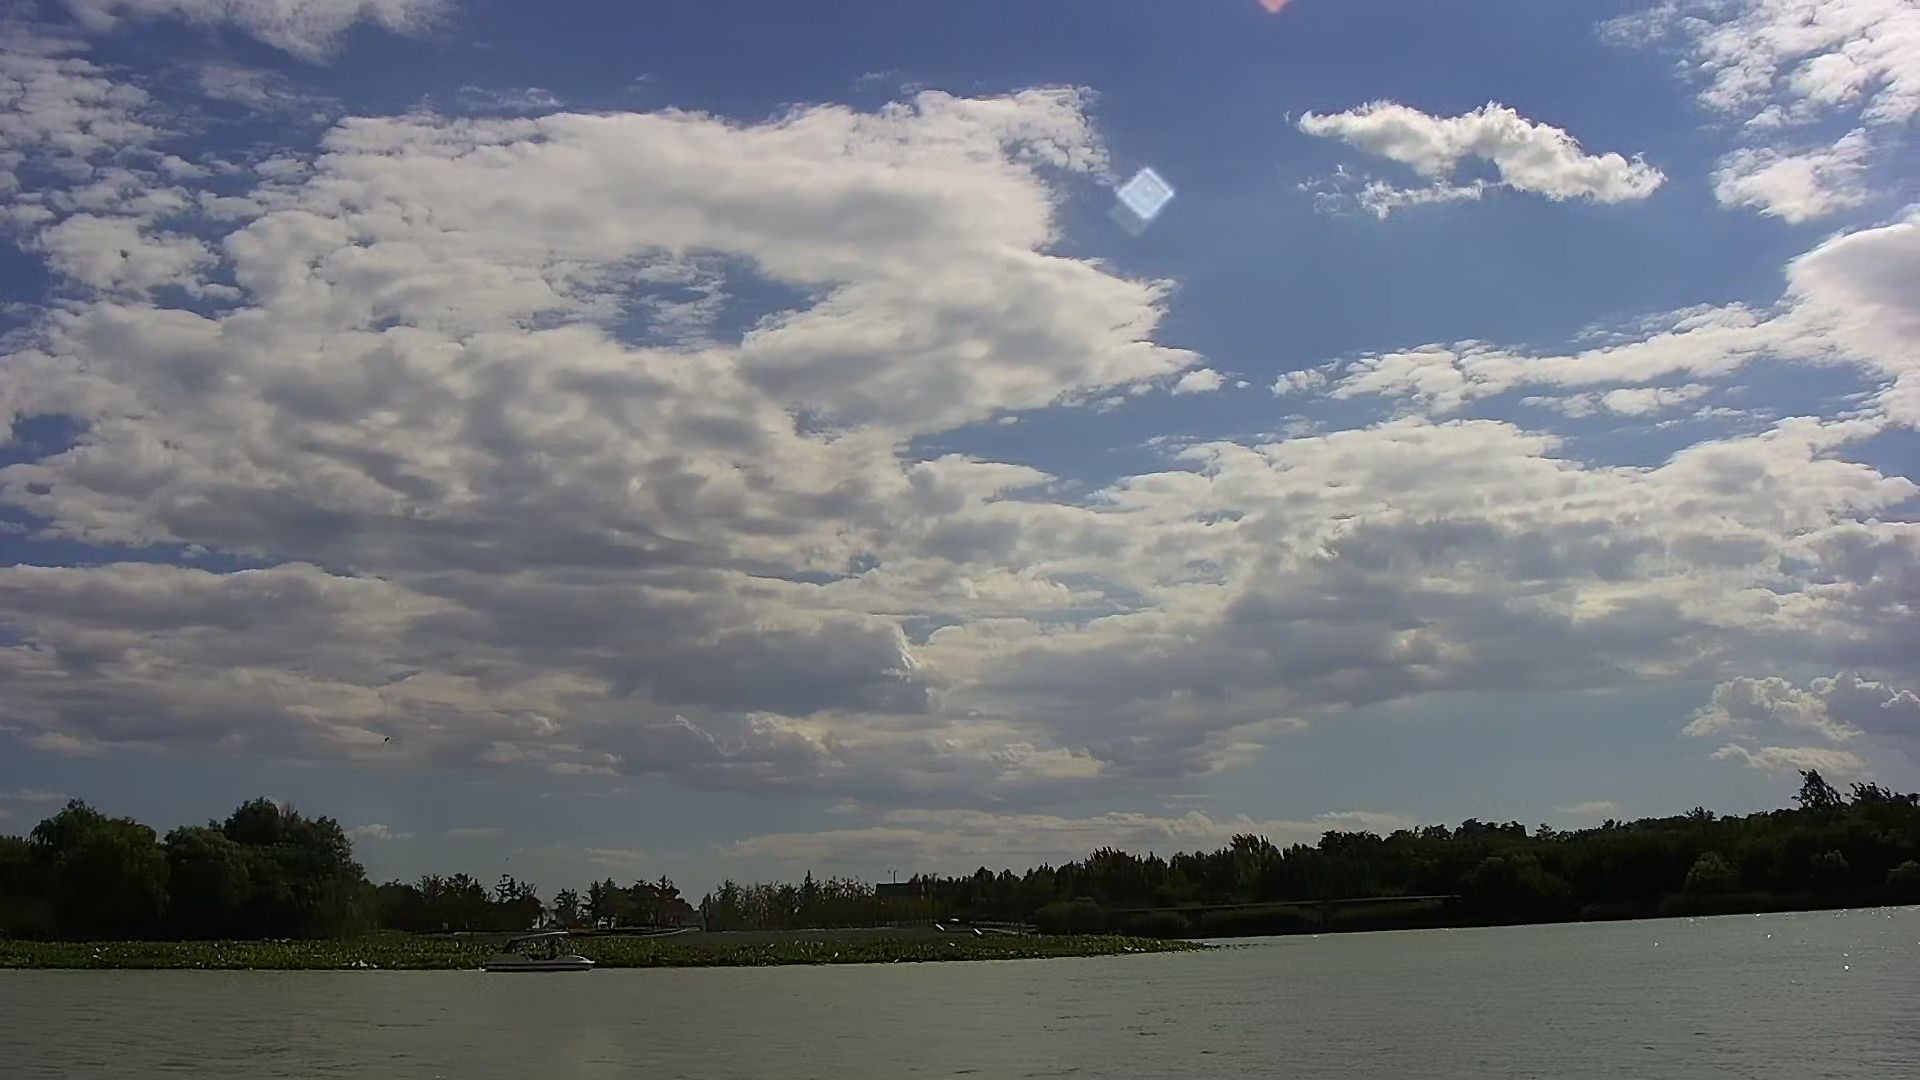boat: (483, 923, 608, 980)
